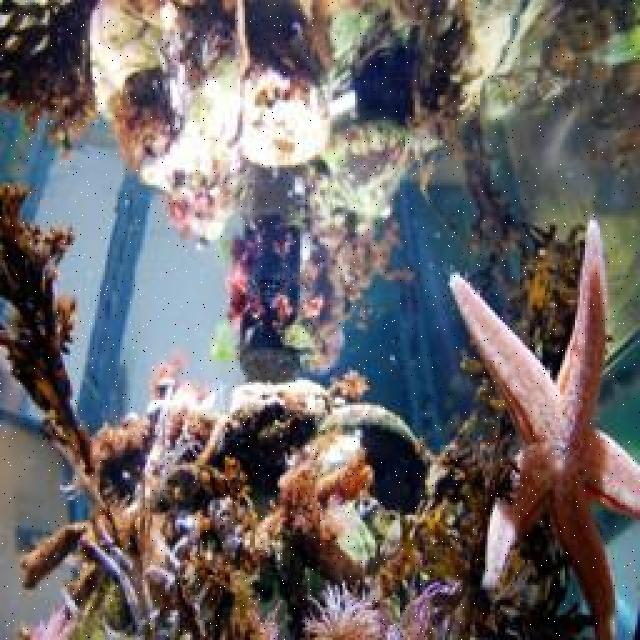reefs: (449, 218, 638, 638), (0, 182, 94, 472), (299, 583, 385, 638)
